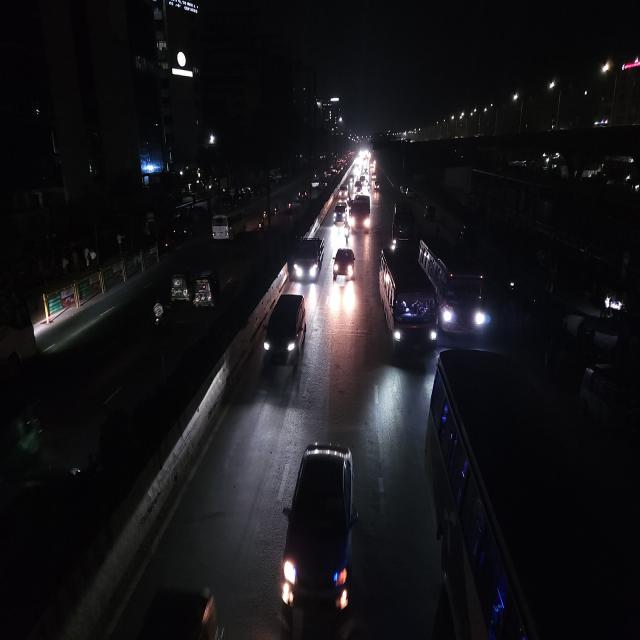bus: (426, 349, 640, 640), (417, 232, 491, 339), (376, 243, 438, 356), (210, 206, 246, 245), (390, 198, 415, 250), (350, 197, 370, 234)
car: (281, 435, 361, 635), (261, 290, 309, 376), (290, 236, 326, 286), (331, 242, 357, 284), (331, 202, 349, 225), (336, 183, 350, 204), (297, 187, 309, 203), (310, 174, 321, 189)
cng: (190, 263, 222, 322), (168, 265, 191, 306), (423, 201, 438, 222)
motorcycle: (151, 294, 167, 334), (257, 209, 267, 233), (341, 226, 351, 247), (272, 201, 280, 218), (286, 199, 294, 215)
